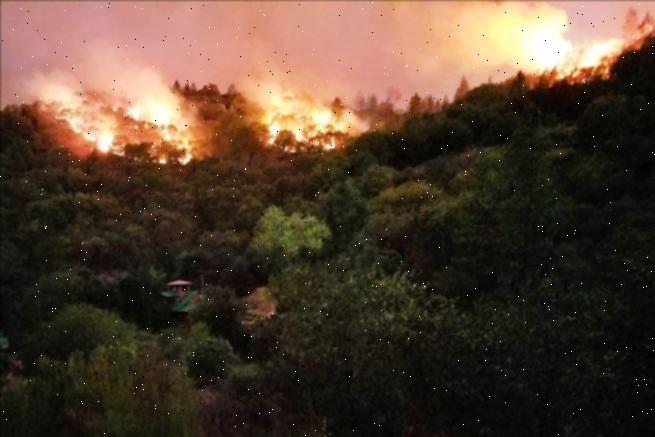fire: (39, 19, 647, 174)
